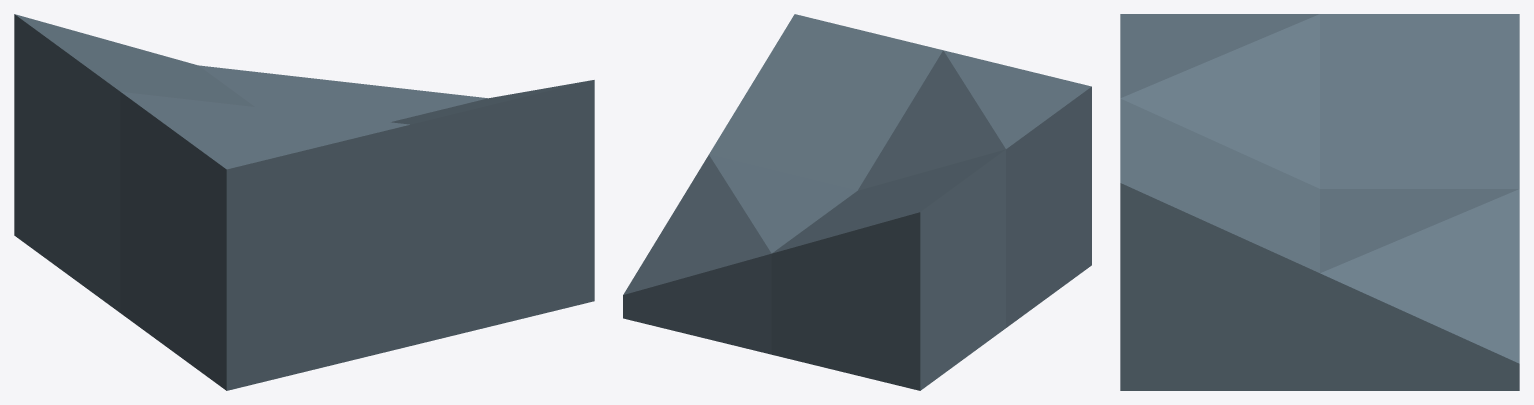
The model's file is P44_Corner_Ramp.fbx.
The picture shows the model from 3 angles, left to right: view 1: azimuth 30°, elevation 25°; view 2: azimuth 150°, elevation 25°; view 3: azimuth 270°, elevation 25°; orthographic projection. The views are drawn at different scales.
Visible parts, largest first — view 1: P44_Corner_Ramp; view 2: P44_Corner_Ramp; view 3: P44_Corner_Ramp.
Part boxes in pixels (bbox=[...]): P44_Corner_Ramp: bbox=[14, 14, 594, 390]; P44_Corner_Ramp: bbox=[623, 14, 1091, 390]; P44_Corner_Ramp: bbox=[1120, 14, 1519, 390].
Size of the model in its own units: 2 by 1.15 by 2.
Materials: 1 (1 with a texture image).
